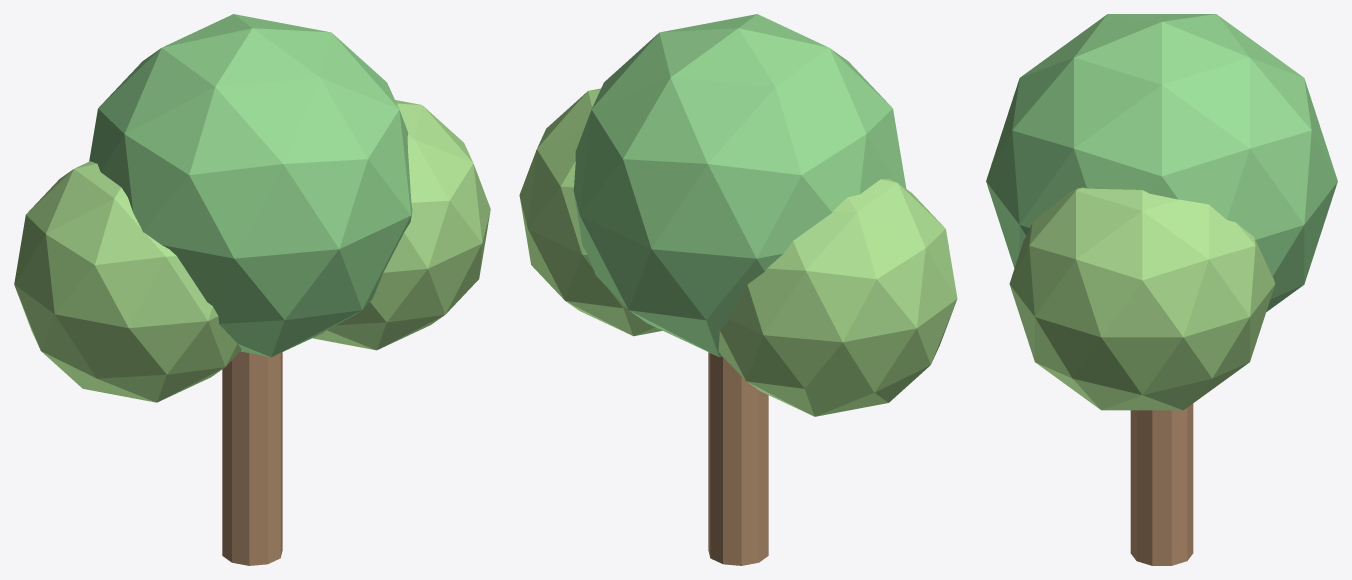
Rendered from tree.fbx.
3 views of the same model, side by side, from view 1: azimuth 30°, elevation 25°; view 2: azimuth 150°, elevation 25°; view 3: azimuth 270°, elevation 25° (orthographic).
Parts seen in each view (by area): view 1: crown_a, crown_b, crown_c, trunk; view 2: crown_a, crown_b, trunk, crown_c; view 3: crown_a, crown_c, trunk.
Boxes of the visible parts, bbox=[...] form: crown_a: bbox=[89, 14, 412, 357]; crown_b: bbox=[14, 161, 241, 402]; crown_c: bbox=[312, 100, 490, 350]; trunk: bbox=[222, 351, 282, 565]; crown_a: bbox=[573, 14, 906, 357]; crown_b: bbox=[718, 178, 957, 416]; trunk: bbox=[708, 352, 768, 565]; crown_c: bbox=[519, 88, 662, 336]; crown_a: bbox=[986, 14, 1337, 311]; crown_c: bbox=[1009, 187, 1275, 410]; trunk: bbox=[1130, 403, 1193, 565].
Size of the model in its own units: 1.25 by 1.5 by 0.9.
